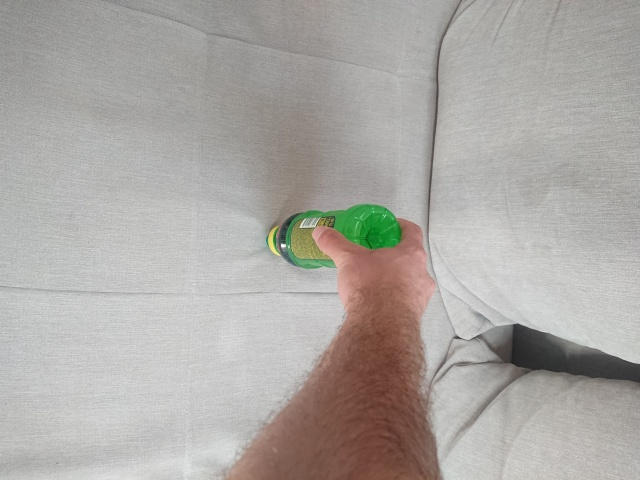Vindi Iso Sport Lemon-Grapefruit 500mL: (263, 201, 404, 272)
